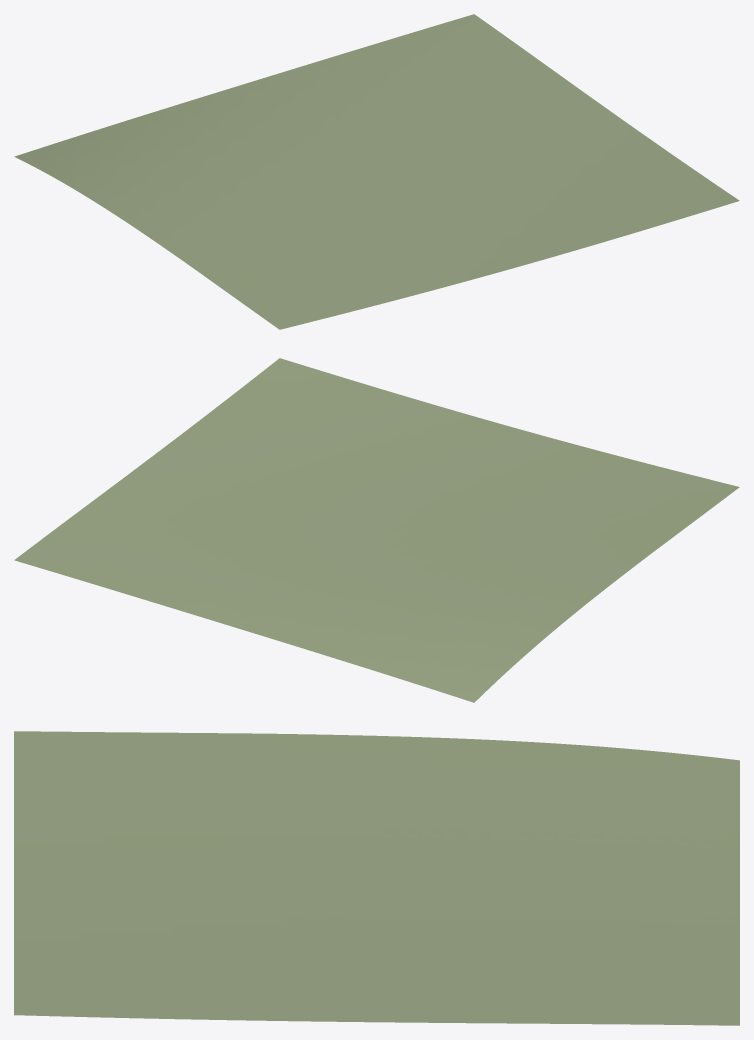
The model's file is expanse-10-23.glb.
3 views of the same model, one above another, from view 1: azimuth 30°, elevation 25°; view 2: azimuth 150°, elevation 25°; view 3: azimuth 270°, elevation 25° (orthographic). The views are drawn at different scales.
Parts seen in each view (by area): view 1: expanse-10-23; view 2: expanse-10-23; view 3: expanse-10-23.
Boxes of the visible parts, <box> form: expanse-10-23: <box>14,14,739,329</box>; expanse-10-23: <box>14,358,739,702</box>; expanse-10-23: <box>14,731,739,1025</box>.
Bounding box in the file's own units: 256 × 20.23 × 256.
